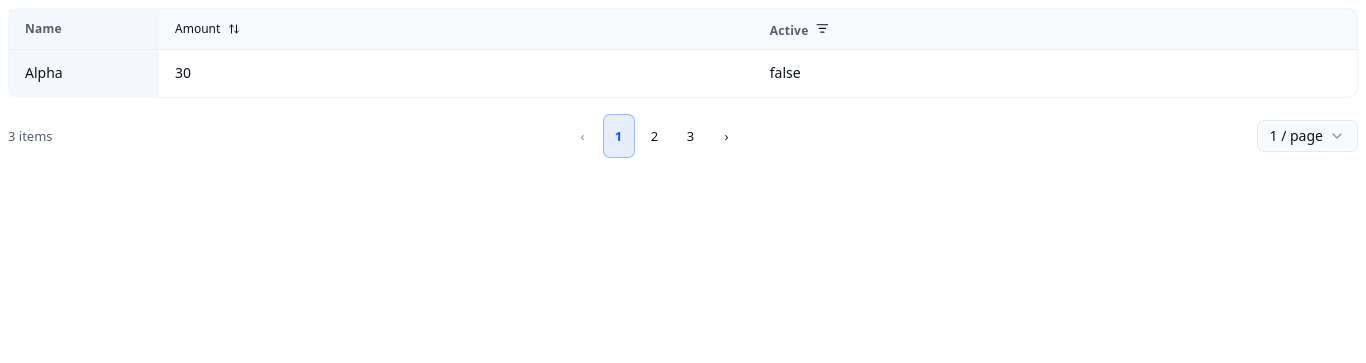
Test: changes an uncontrolled page size through shared pagination
The width and height of the screenshot is (1366, 363).
Expected: the text "Beta" is not shown
What coordinates should you click on to do the following:
click the dropdown
I would click on:
 (1307, 136)
Its box is [1256, 120, 1358, 152].
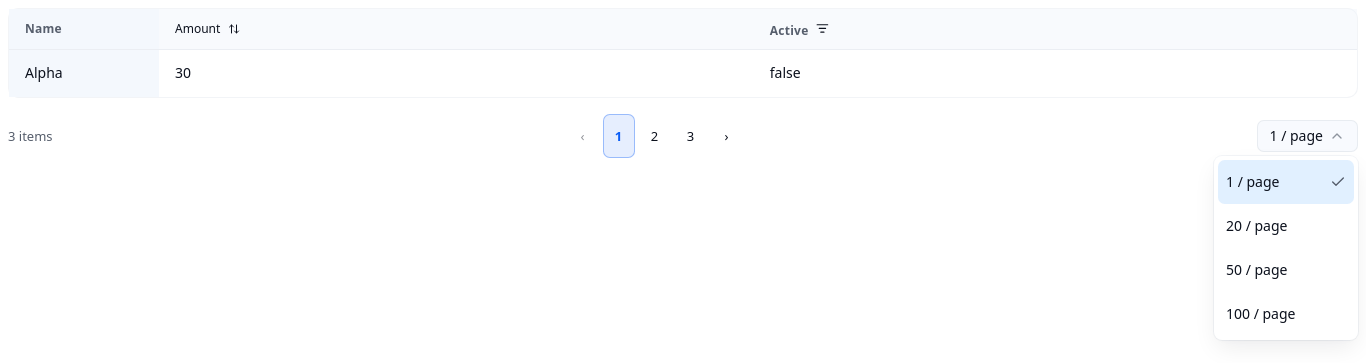
What coordinates should you click on to do the following:
click the option "20 / page"
I would click on:
 (1257, 226)
Its box is [1226, 216, 1288, 235].
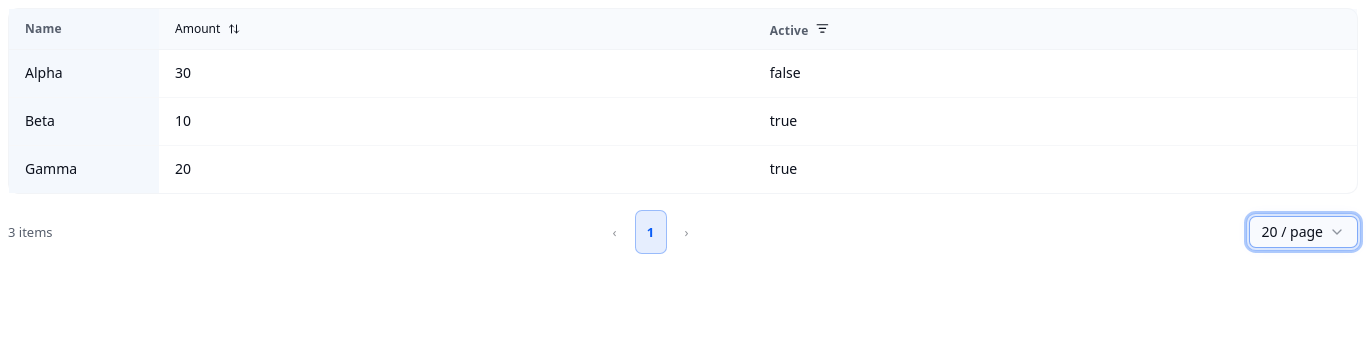
Now the text "Gamma" is shown, box [25, 159, 77, 178]
